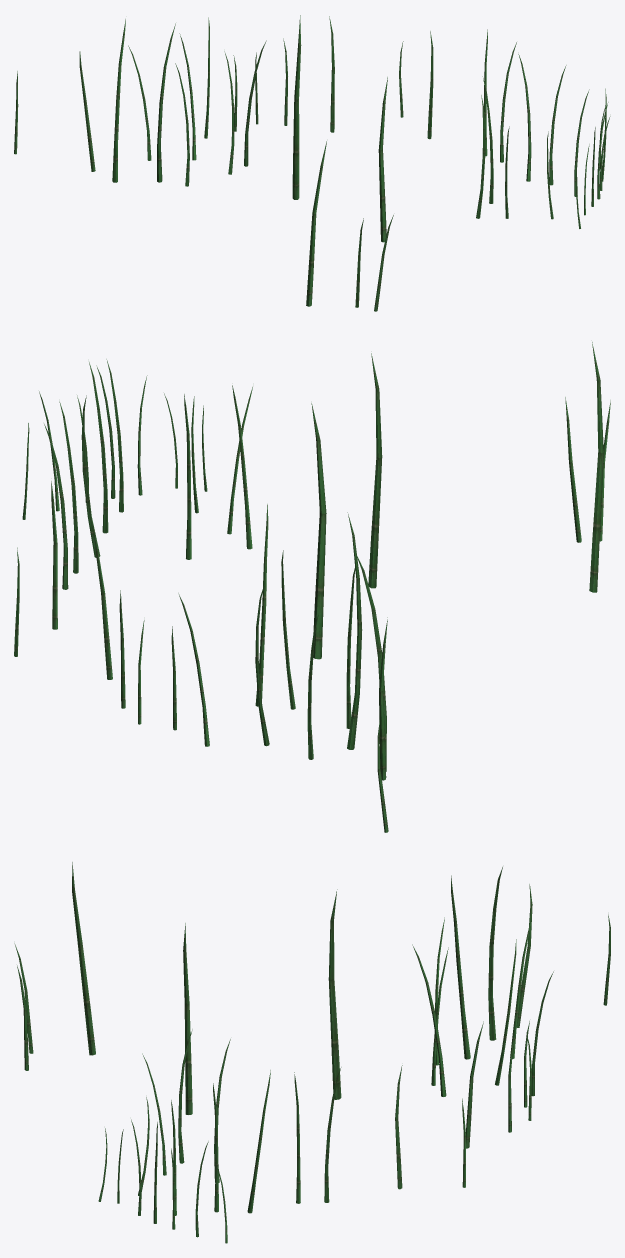
The model's file is Area_12_11.fbx.
3 views of the same model, one above another, from view 1: azimuth 30°, elevation 25°; view 2: azimuth 150°, elevation 25°; view 3: azimuth 270°, elevation 25° (orthographic). The views are drawn at different scales.
Parts seen in each view (by area): view 1: Area_12_11; view 2: Area_12_11; view 3: Area_12_11.
Boxes of the visible parts, x1=… form: Area_12_11: x1=14, y1=15, x2=610, y2=311; Area_12_11: x1=14, y1=342, x2=610, y2=832; Area_12_11: x1=14, y1=862, x2=610, y2=1243.
Bounding box in the file's own units: 4219 × 1807 × 4421.
